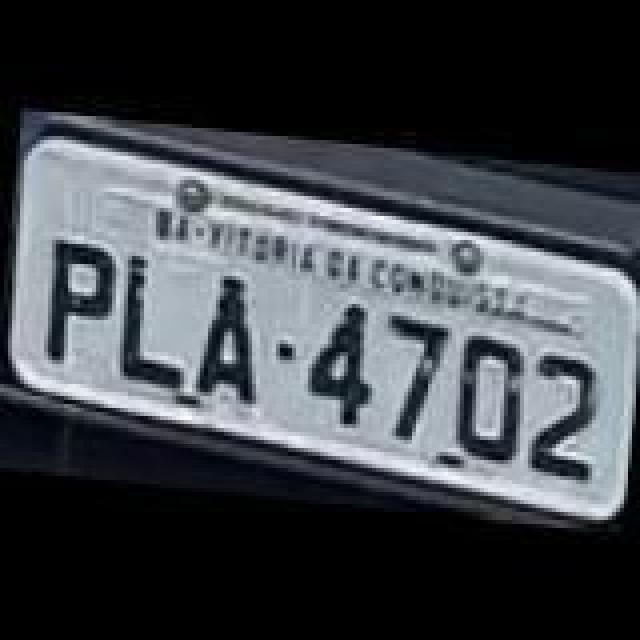2: (524, 348, 612, 484)
4: (298, 294, 382, 434)
7: (374, 304, 458, 448)
A: (192, 264, 272, 408)
L: (110, 248, 202, 392)
O: (446, 328, 530, 472)
P: (38, 238, 114, 370)
